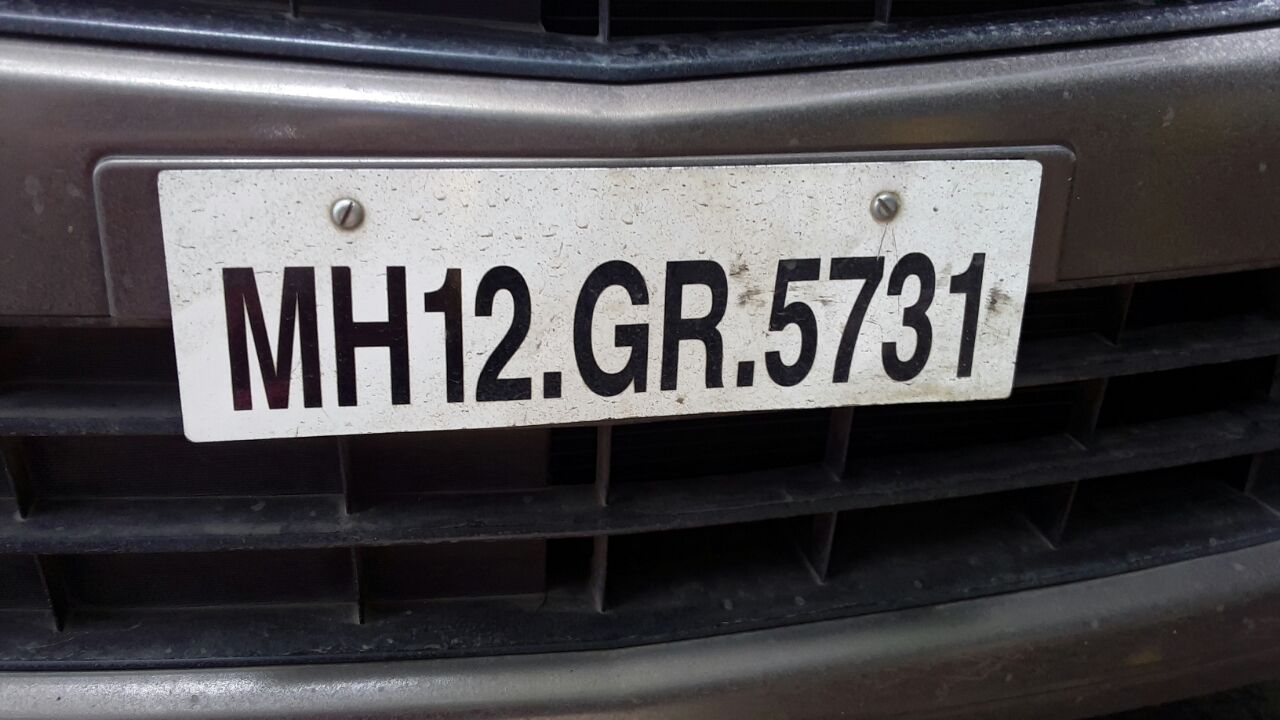licenseplate: (151, 153, 1050, 451)
